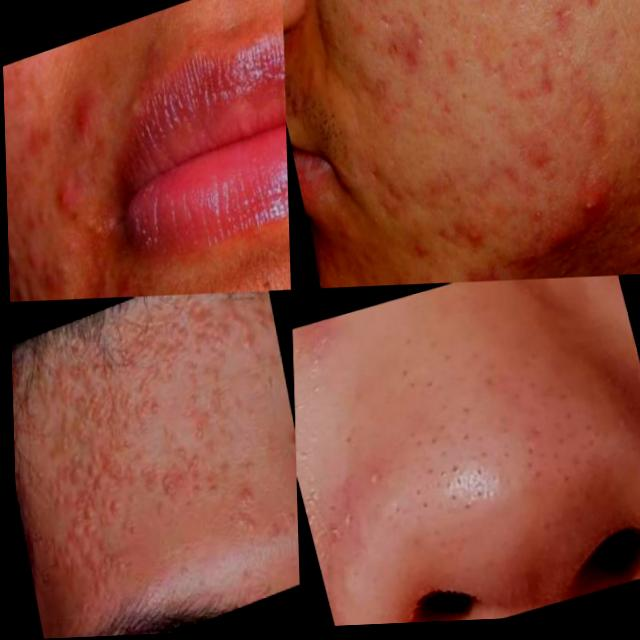8: (59, 92, 105, 153)
9: (452, 223, 489, 266), (39, 176, 71, 219)
blackheads: (348, 134, 414, 245), (368, 20, 440, 103), (554, 184, 615, 240), (466, 0, 532, 6)
dark spot: (36, 339, 135, 429), (54, 394, 152, 484), (424, 452, 488, 526), (421, 164, 479, 230), (397, 465, 449, 518), (442, 401, 488, 458), (511, 440, 562, 490), (343, 462, 391, 501), (401, 420, 449, 457), (602, 412, 630, 452)
